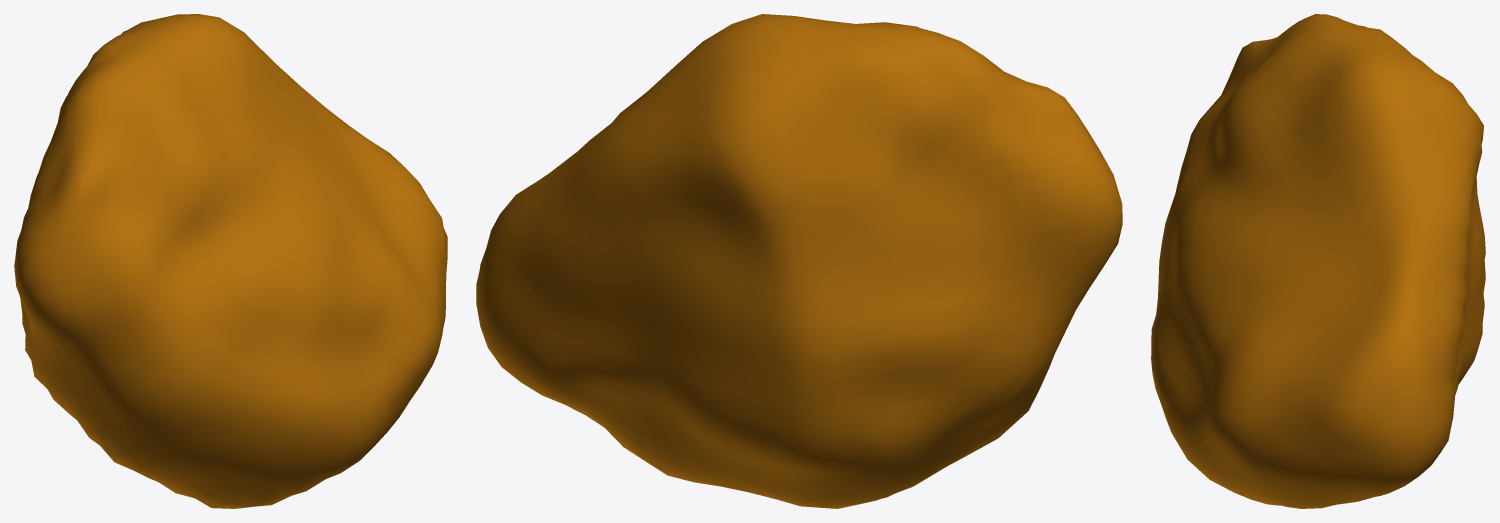
File: stone5.fbx
3 views of the same model, side by side, from view 1: azimuth 30°, elevation 25°; view 2: azimuth 150°, elevation 25°; view 3: azimuth 270°, elevation 25° (orthographic). The views are drawn at different scales.
Visible parts, largest first — view 1: rock; view 2: rock; view 3: rock.
Boxes of the visible parts, <box> form: rock: <box>14,14,447,508</box>; rock: <box>476,14,1122,508</box>; rock: <box>1151,14,1485,508</box>.
Bounding box in the file's own units: 77.38 × 68.7 × 49.56.
